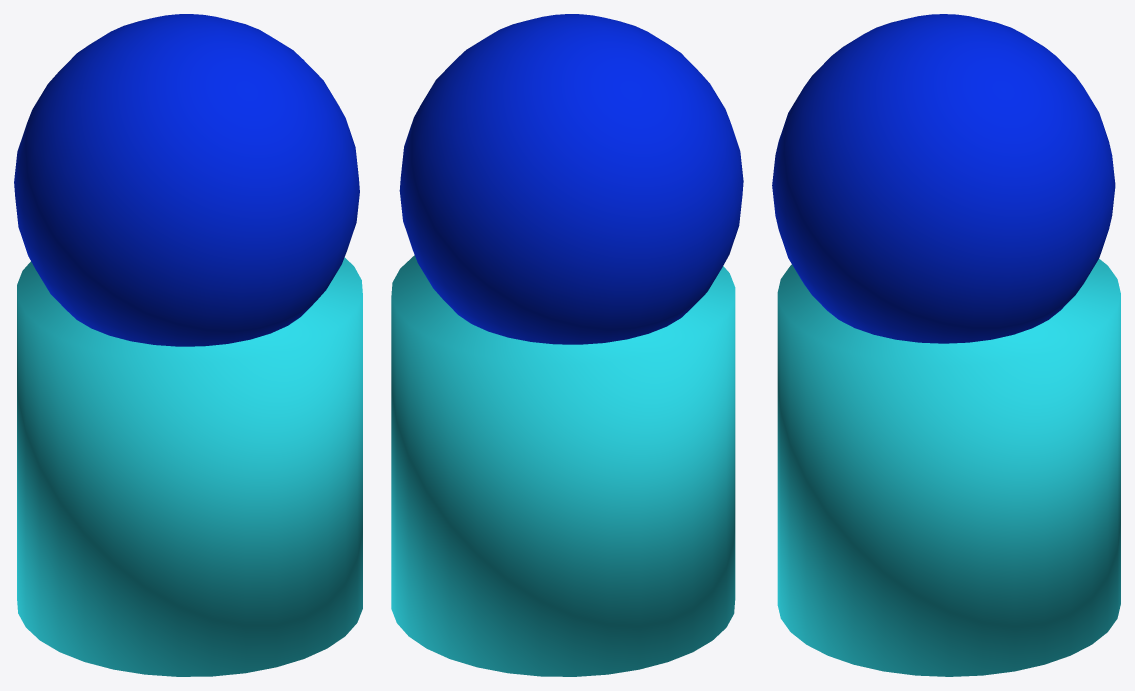
The picture shows the model from 3 angles, left to right: view 1: azimuth 30°, elevation 25°; view 2: azimuth 150°, elevation 25°; view 3: azimuth 270°, elevation 25°; orthographic projection.
Parts seen in each view (by area): view 1: Cylinder, Sphere; view 2: Cylinder, Sphere; view 3: Cylinder, Sphere.
Part boxes in pixels (<box>): Cylinder: <box>17,257,362,676</box>; Sphere: <box>14,14,359,346</box>; Cylinder: <box>391,255,735,676</box>; Sphere: <box>399,14,743,344</box>; Cylinder: <box>777,259,1120,676</box>; Sphere: <box>772,14,1115,343</box>.
Size of the model in its own units: 2.04 by 3.67 by 2.03.
